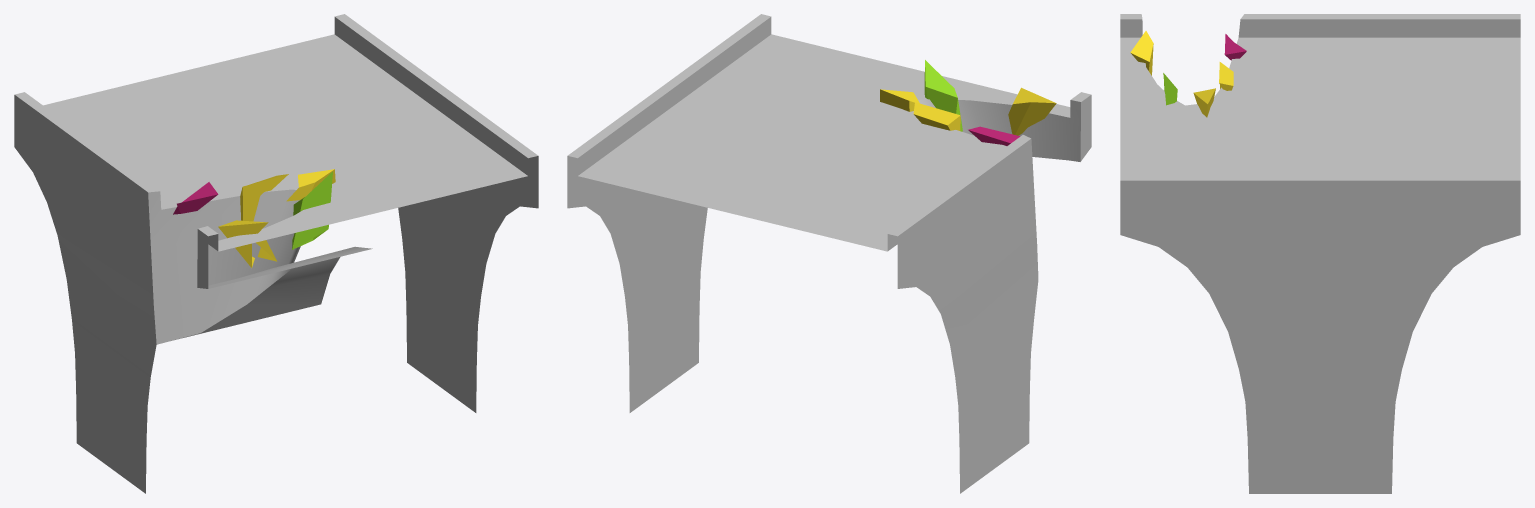
File: мост с камнями1.fbx
3 views of the same model, side by side, from view 1: azimuth 30°, elevation 25°; view 2: azimuth 150°, elevation 25°; view 3: azimuth 270°, elevation 25° (orthographic). The views are drawn at different scales.
Parts seen in each view (by area): view 1: мост с камнямиэ; view 2: мост с камнямиэ; view 3: мост с камнямиэ.
Boxes of the visible parts, x1,y1,x2,y2 form: мост с камнямиэ: [14, 14, 538, 493]; мост с камнямиэ: [567, 14, 1091, 493]; мост с камнямиэ: [1120, 14, 1520, 493].
Size of the model in its own units: 6.08 by 5.59 by 6.18.
